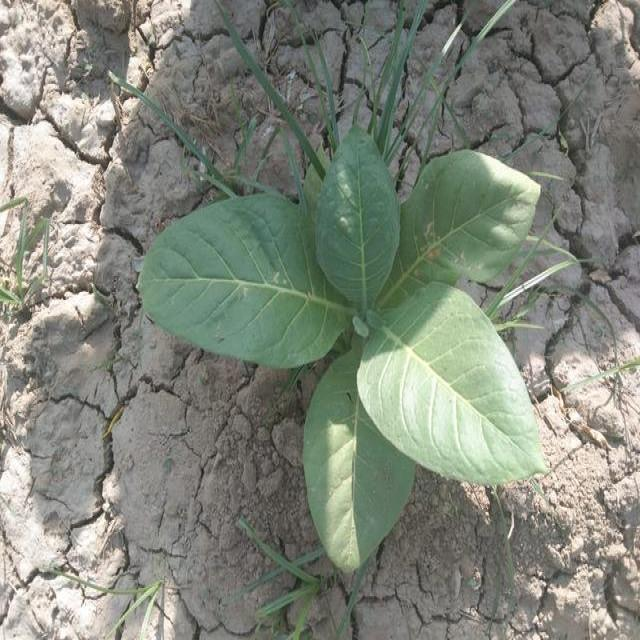crop: (135, 135, 562, 557)
